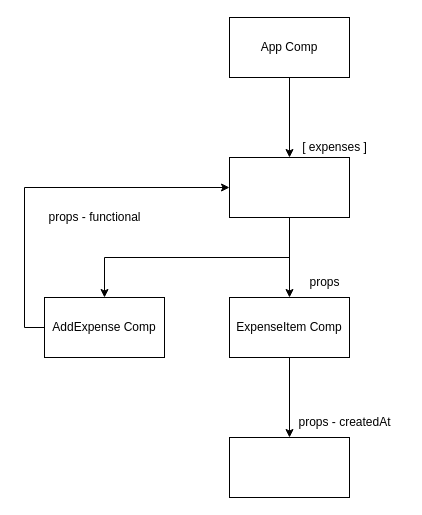
The diagram is 422 pixels wide and 515 high, and some of its shapes have lost their labels. Each missing label, with the centre of its shape:
ExpenseDate Comp: point (289, 467)
Expenses Comp: point (289, 187)
